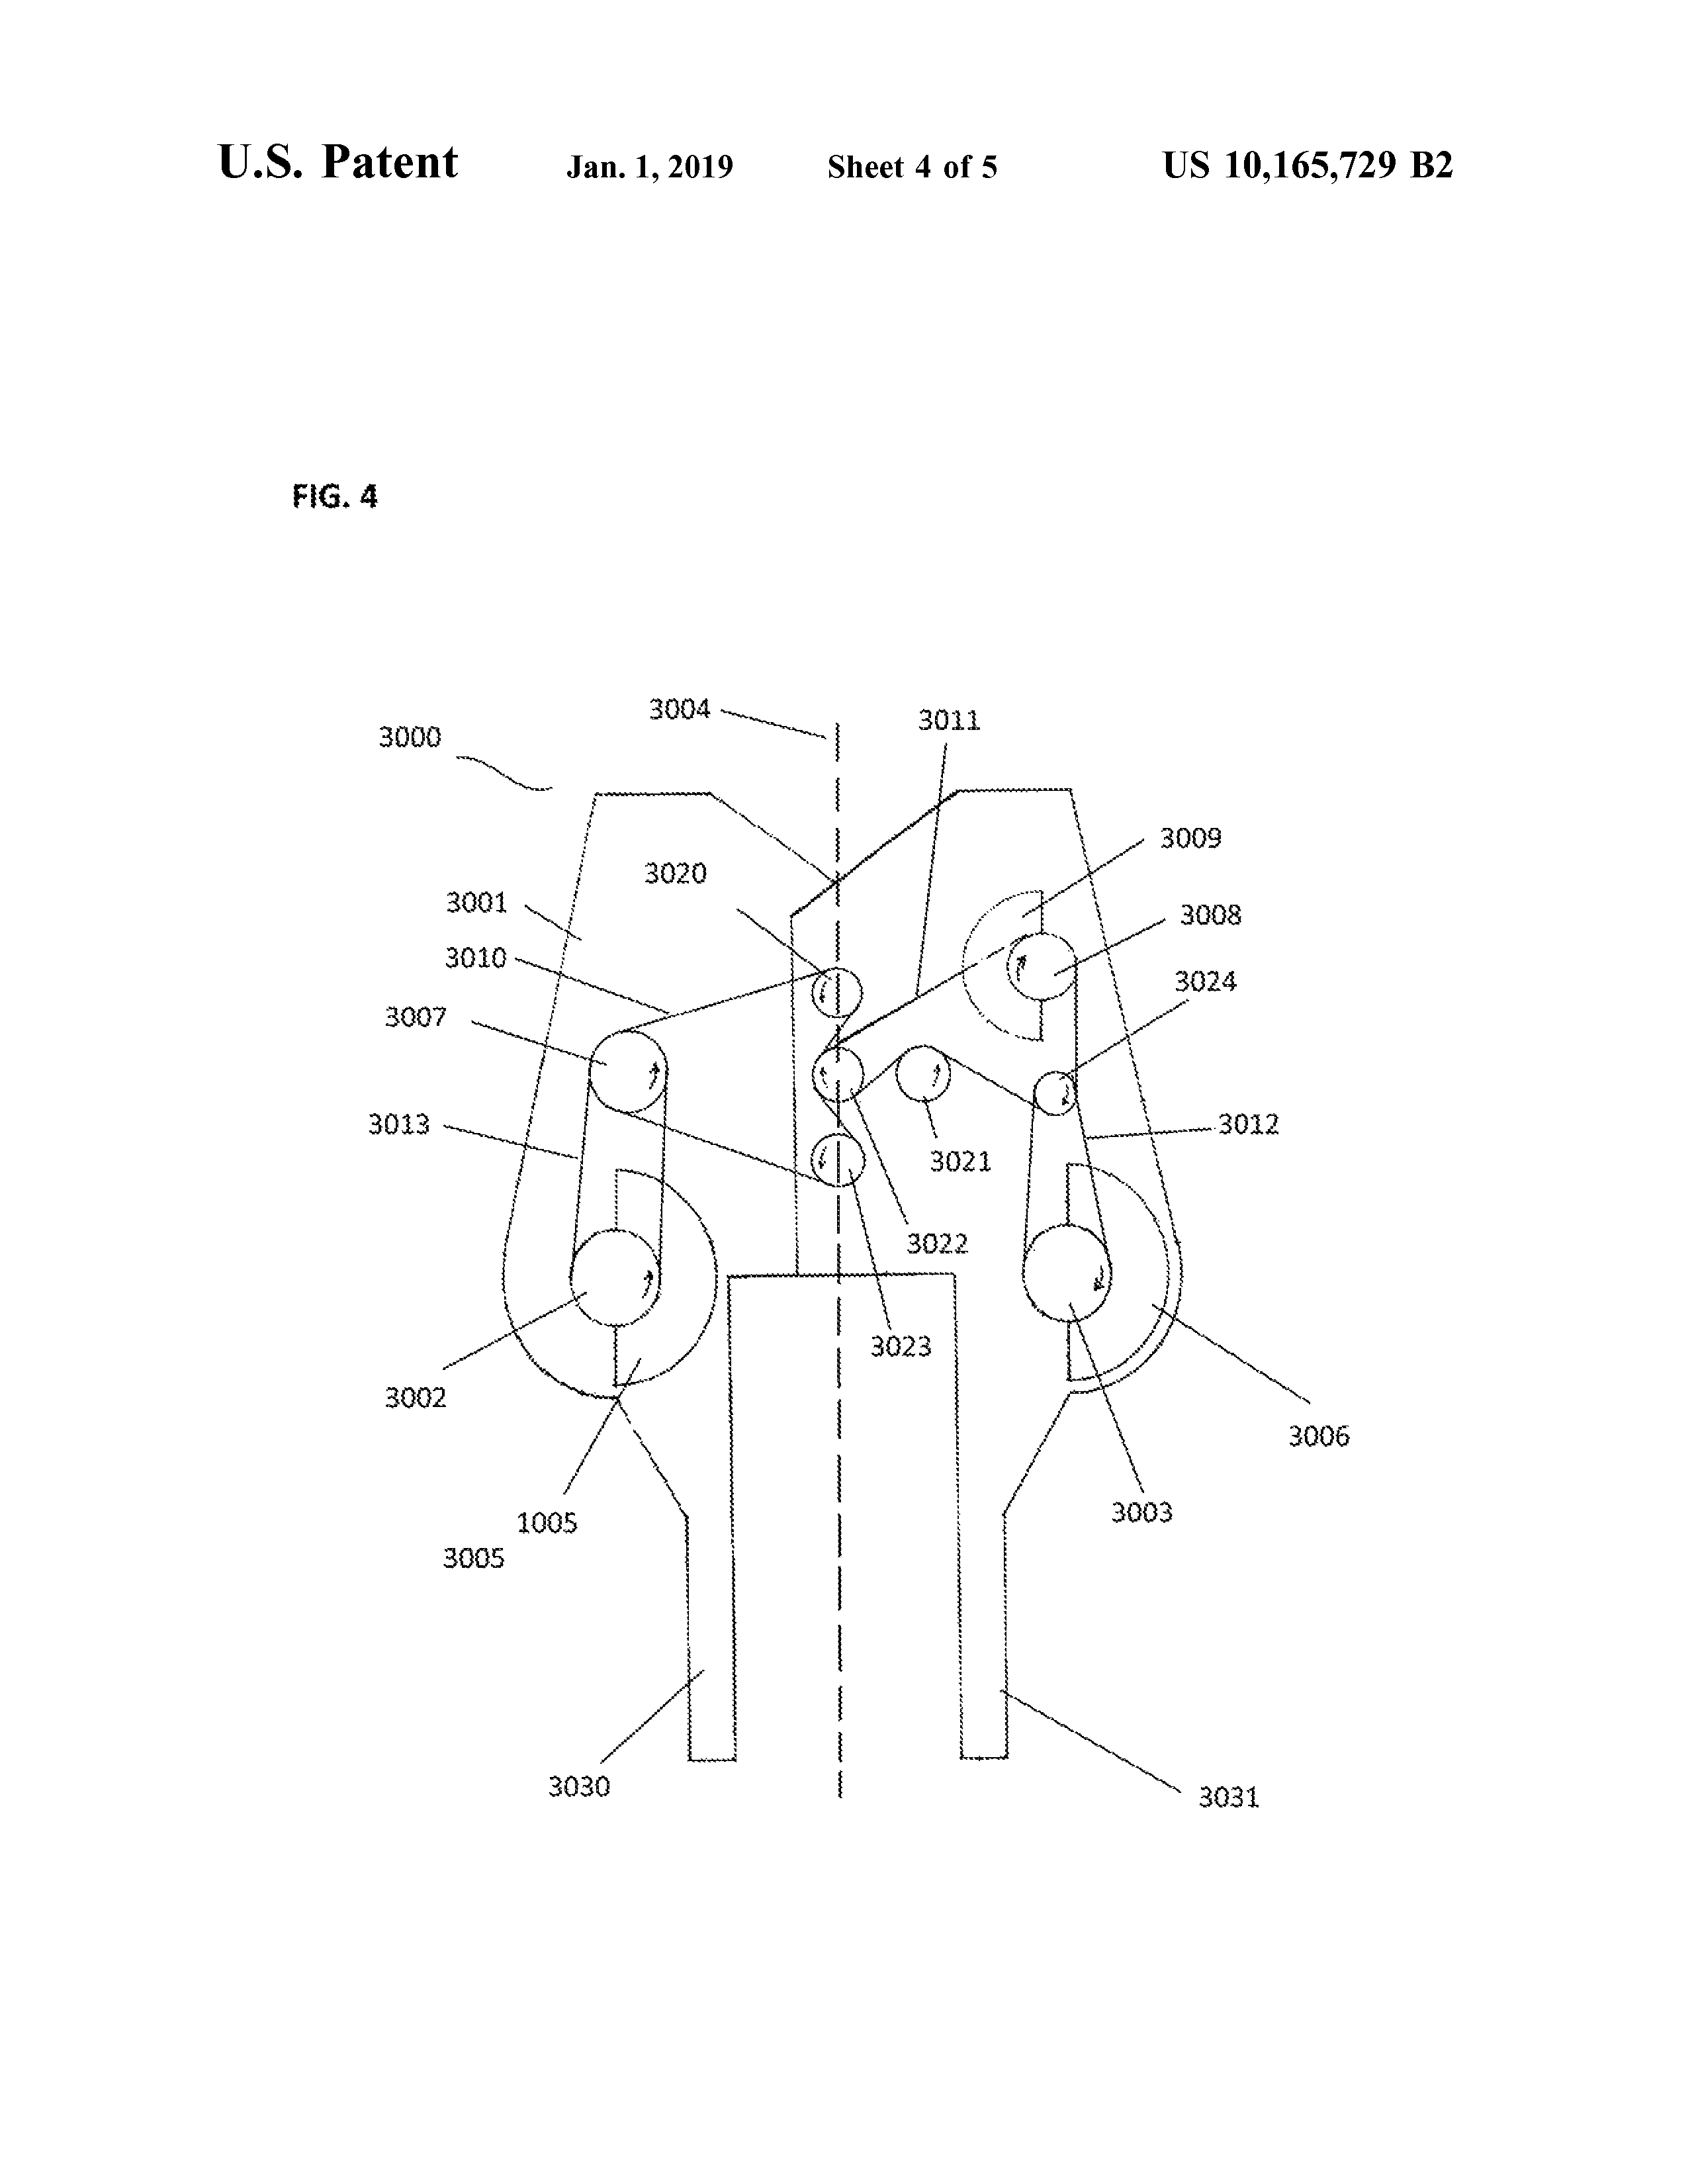patent image: (279, 460, 1360, 1844)
